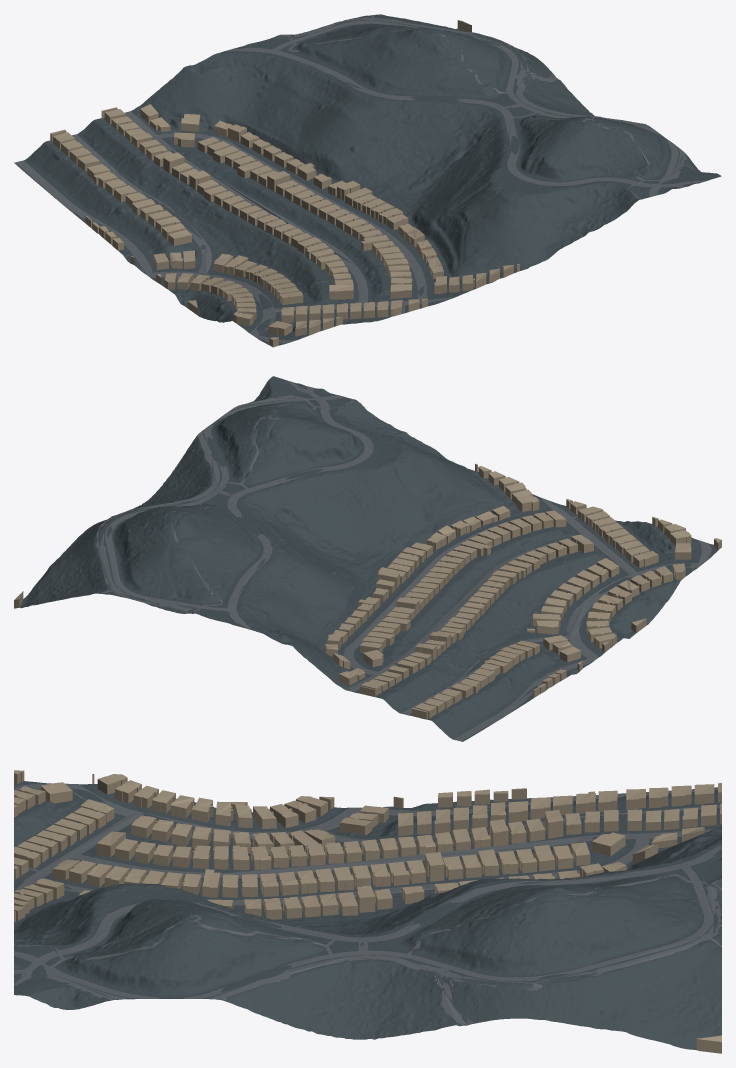
Rendered from epsg26910-1428-10881.lod0.glb.
The picture shows the model from 3 angles, top to bottom: view 1: azimuth 30°, elevation 25°; view 2: azimuth 150°, elevation 25°; view 3: azimuth 270°, elevation 25°; orthographic projection. The views are drawn at different scales.
Parts seen in each view (by area): view 1: epsg26910-1428-10881-lod0; view 2: epsg26910-1428-10881-lod0; view 3: epsg26910-1428-10881-lod0.
Boxes of the visible parts, <box> form: epsg26910-1428-10881-lod0: <box>14,14,721,347</box>; epsg26910-1428-10881-lod0: <box>14,376,721,741</box>; epsg26910-1428-10881-lod0: <box>14,770,721,1053</box>.
Bounding box in the file's own units: 384 × 91.89 × 384.
